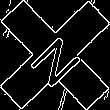N_NE: (23, 23, 87, 87)
